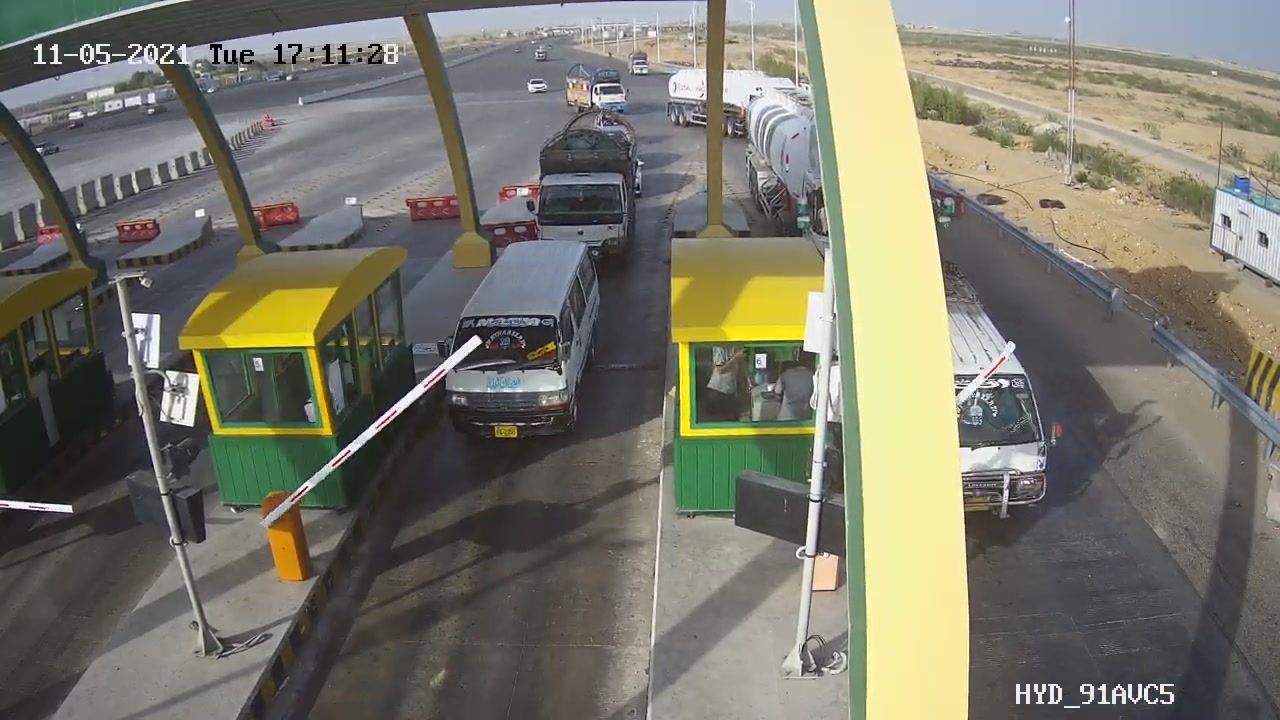F2: (420, 226, 626, 455)
